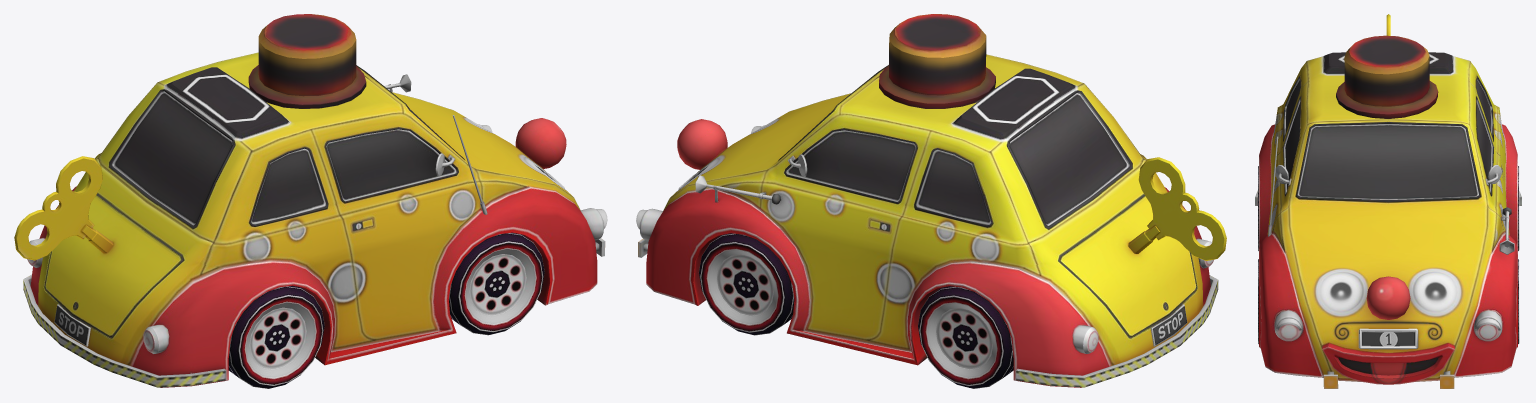
File: CLOWN_YELLOW.glb
3 views of the same model, side by side, from view 1: azimuth 30°, elevation 25°; view 2: azimuth 150°, elevation 25°; view 3: azimuth 270°, elevation 25° (orthographic). The views are drawn at different scales.
Parts seen in each view (by area): view 1: car_body, wheel_rr, wheel_fr; view 2: car_body, wheel_rl, wheel_fl; view 3: car_body.
Part boxes in pixels (<box>): car_body: <box>14,14,607,387</box>; wheel_rr: <box>228,285,324,388</box>; wheel_fr: <box>449,232,544,335</box>; car_body: <box>636,14,1226,387</box>; wheel_rl: <box>918,286,1013,388</box>; wheel_fl: <box>698,233,794,335</box>; car_body: <box>1255,14,1521,388</box>.
Bounding box in the file's own units: 0.4024 × 0.194 × 0.1937.
2 materials, 2 textured.
